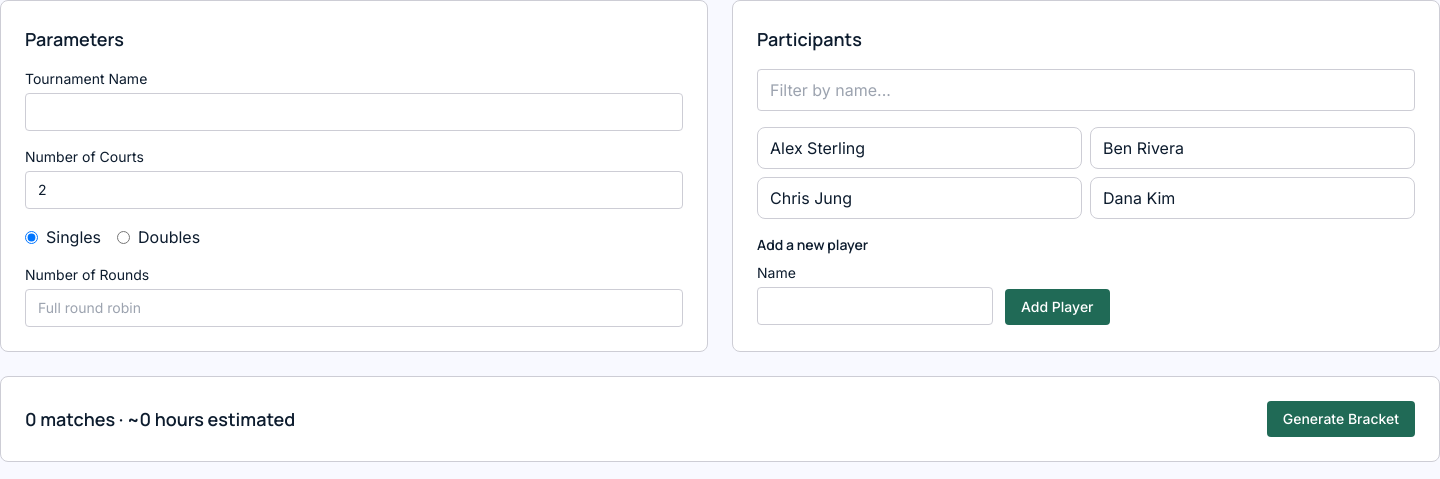
Scenario: RoundRobinSetupForm › shows a Number of Rounds field for singles that defaults to a full round robin
Click the checkbox labelled "Alex Sterling": [818, 148] box [757, 127, 1082, 169]
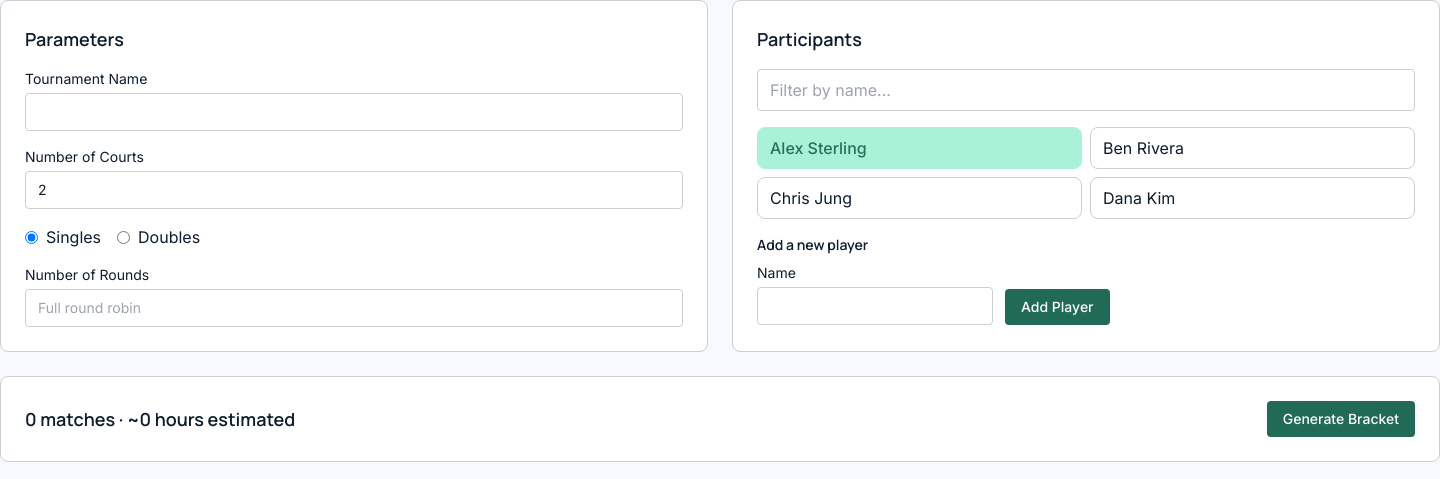
Click the checkbox labelled "Ben Rivera": [1143, 148] box [1090, 127, 1415, 169]
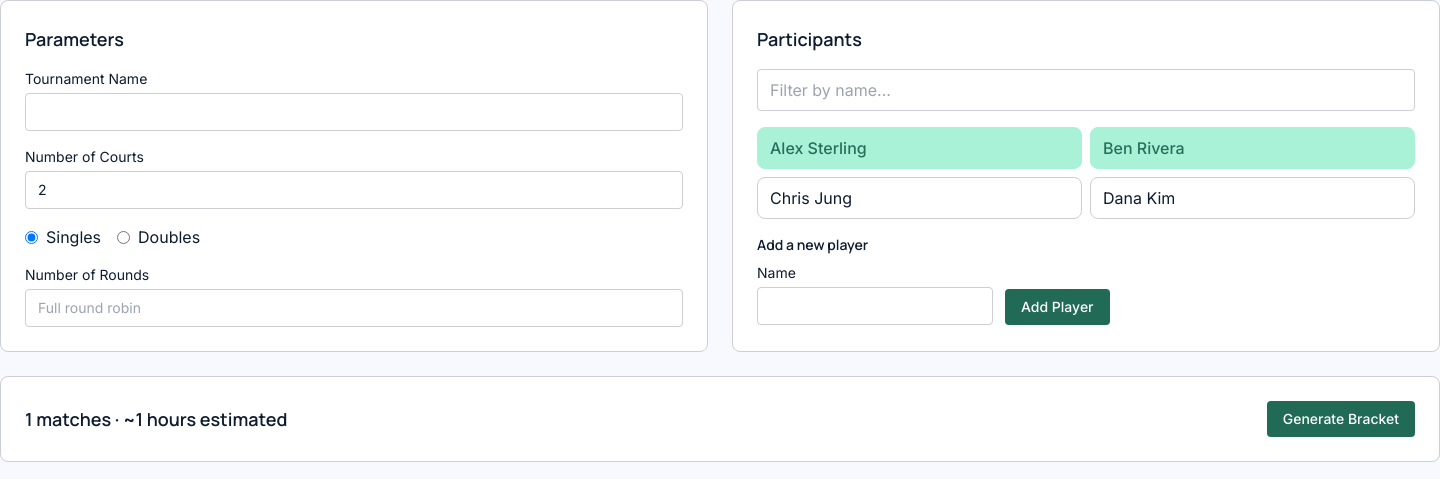
Click the checkbox labelled "Chris Jung": [811, 198] box [757, 177, 1082, 219]
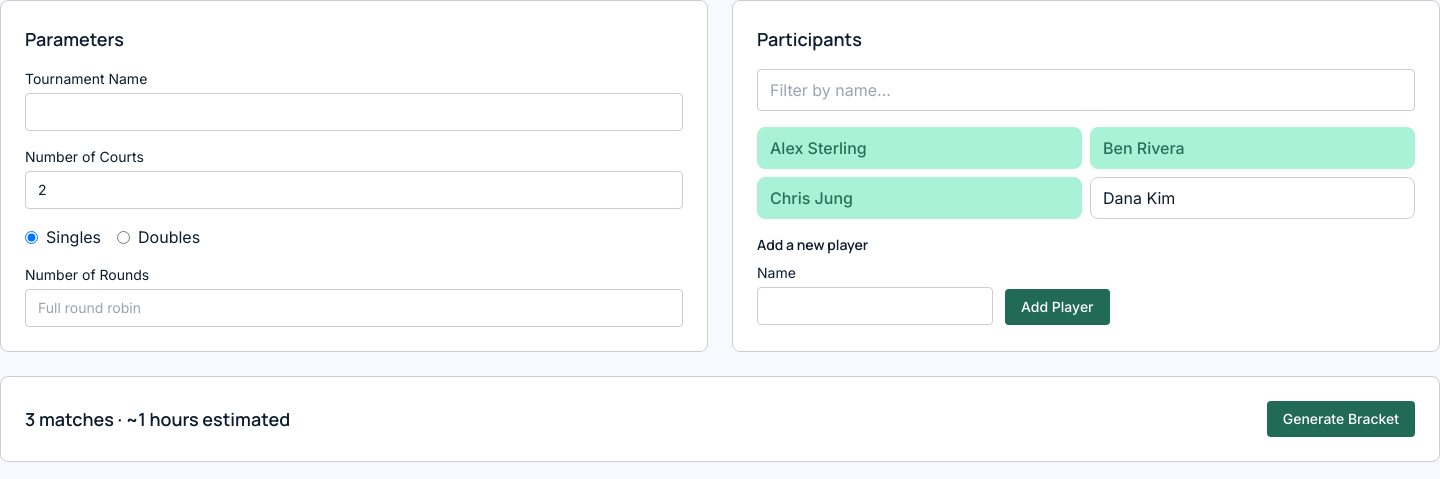
Click the checkbox labelled "Dana Kim": [1139, 198] box [1090, 177, 1415, 219]
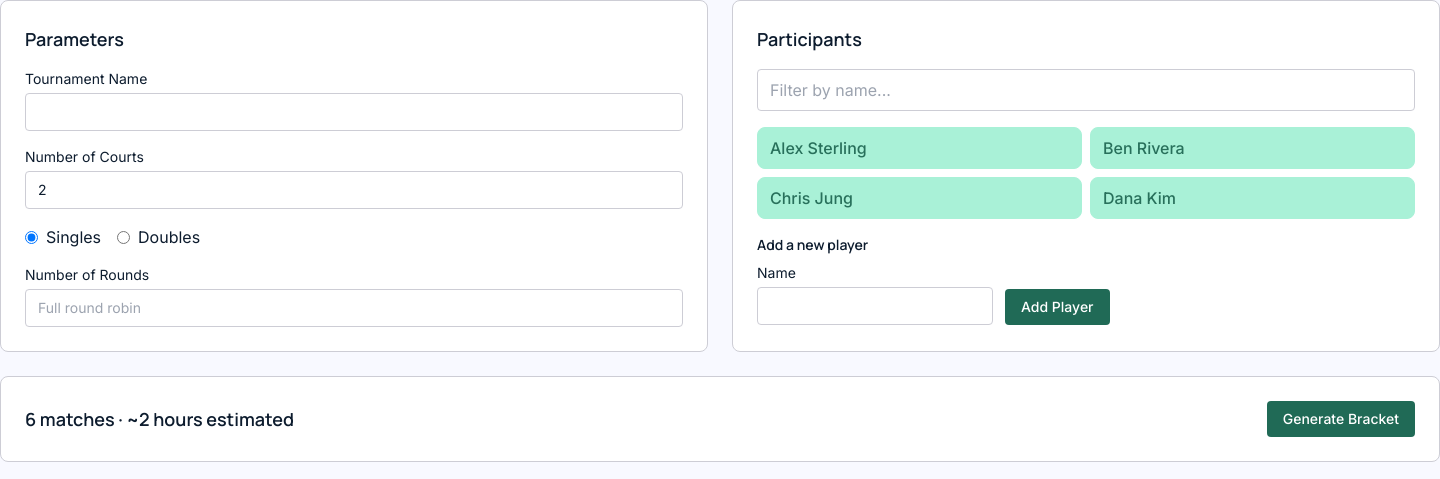
Check: the text "6 matches · ~2 hours estimated" is shown, box [25, 405, 294, 433]
In the number field labelled "Number of Rounds": [354, 308] box [25, 289, 683, 327], type "2"
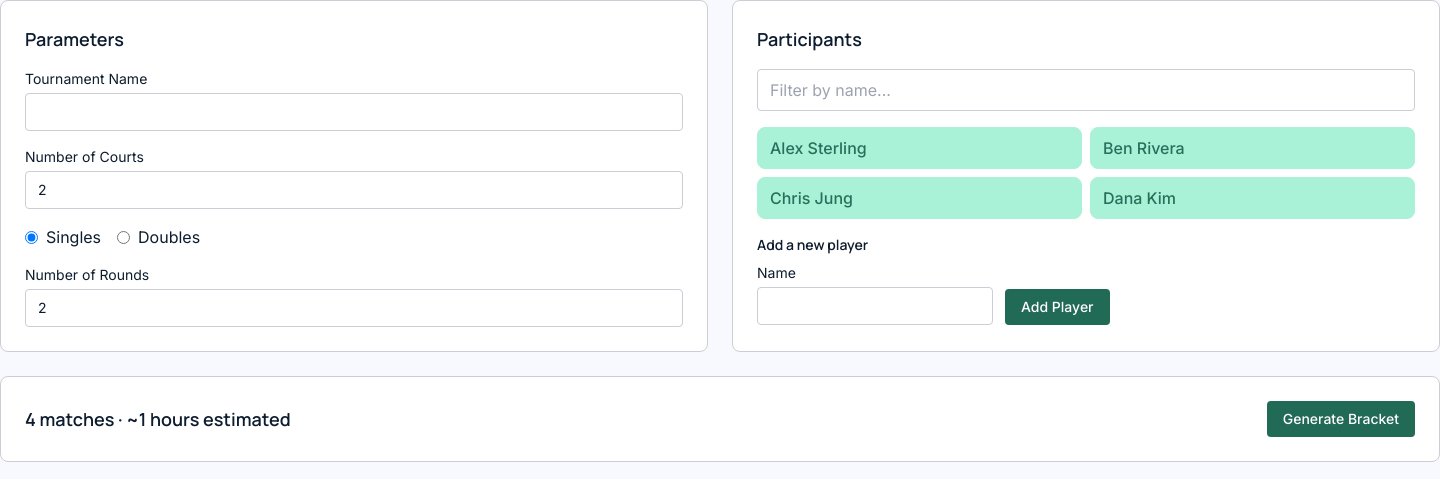
Check: the text "4 matches · ~1 hours estimated" is shown, box [25, 405, 291, 433]
